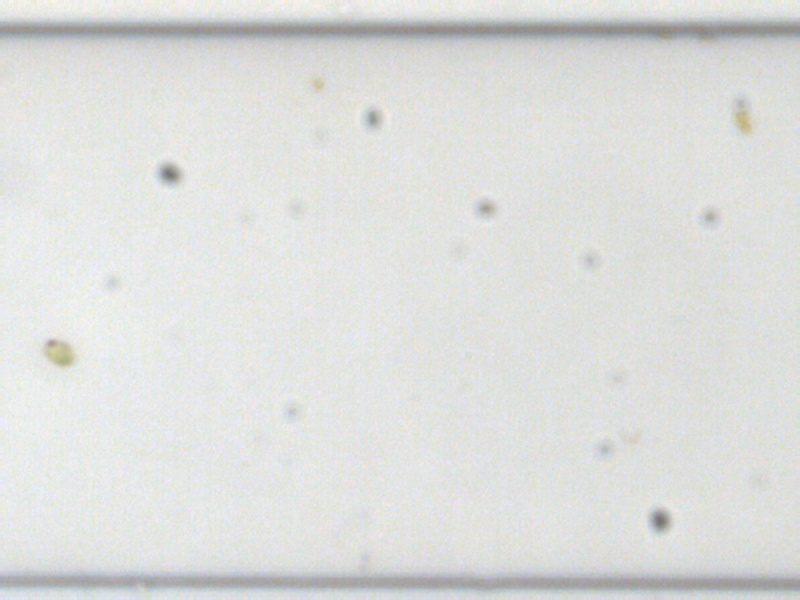Chlorella: (309, 72, 325, 90)
Dunaliella salina: (39, 336, 76, 367), (730, 91, 755, 135)
